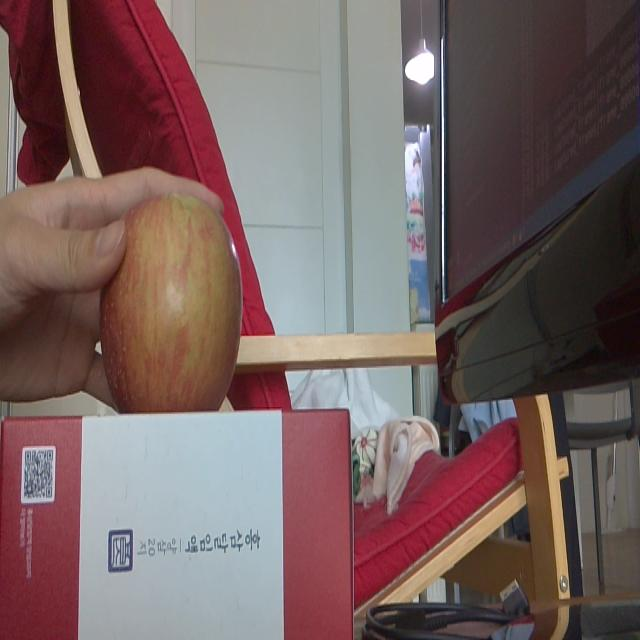apple: (99, 194, 243, 410)
